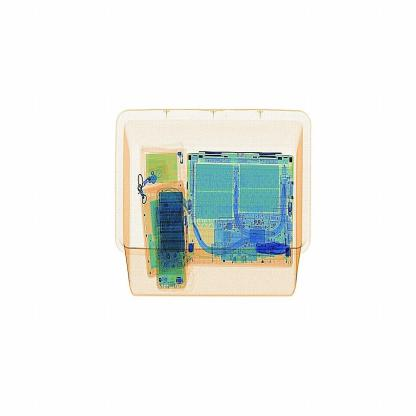knife: (251, 239, 294, 259)
